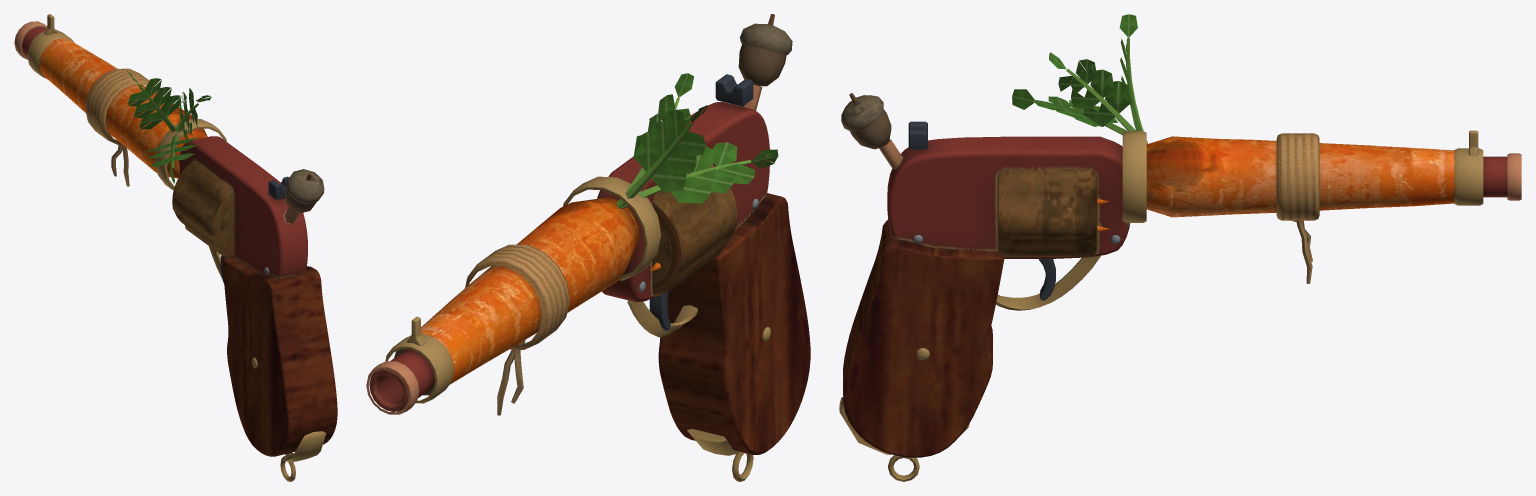
File: carrot_pistol.glb
3 renders of one model, left to right at view 1: azimuth 30°, elevation 25°; view 2: azimuth 150°, elevation 25°; view 3: azimuth 270°, elevation 25°, orthographic. The views are drawn at different scales.
Parts seen in each view (by area): view 1: carrot_pistol; view 2: carrot_pistol; view 3: carrot_pistol.
Part boxes in pixels (x1,y1,x2,y2): carrot_pistol: [14, 14, 337, 481]; carrot_pistol: [366, 14, 810, 481]; carrot_pistol: [839, 14, 1521, 481].
Size of the model in its own units: 0.0636 by 0.1966 by 0.2839.
Materials: 1 (1 with a texture image).
